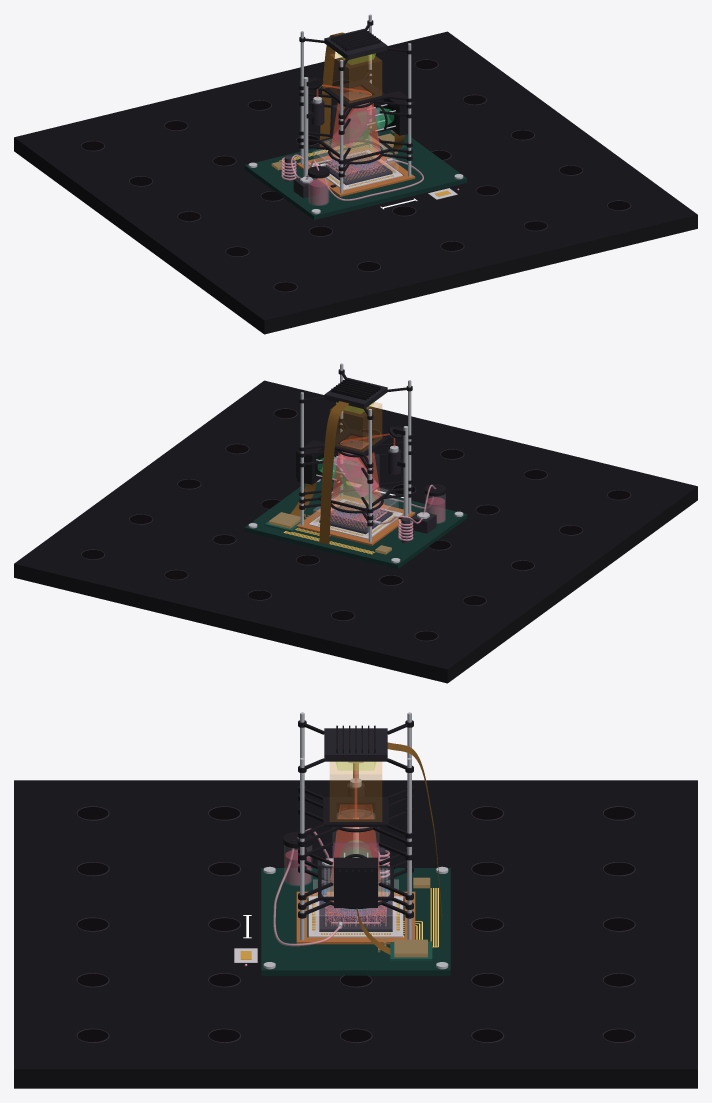
File: photonic-wetware-core.glb
The picture shows the model from 3 angles, top to bottom: view 1: azimuth 30°, elevation 25°; view 2: azimuth 150°, elevation 25°; view 3: azimuth 270°, elevation 25°; orthographic projection. The views are drawn at different scales.
Visible parts, largest first — view 1: breadboard, board, breadboard_instances (×2), crystal, slm, lifesupport, beam_4, cage, dichroic, mea, sensor, laser (+5 smaller); view 2: breadboard, board, breadboard_instances (×2), slm, crystal, beam_4, lifesupport, cage, dichroic, mea, sensor, laser (+6 smaller); view 3: breadboard, board, breadboard_instances (×2), crystal, slm, sensor, mea, lifesupport, dichroic, cage, thermal, beam_4 (+8 smaller).
Boxes of the visible parts, x1=… form: breadboard: x1=14, y1=31, x2=697, y2=334; board: x1=244, y1=129, x2=467, y2=219; breadboard_instances (×2): x1=80, y1=59, x2=631, y2=292; crystal: x1=299, y1=53, x2=412, y2=118; slm: x1=299, y1=20, x2=412, y2=149; lifesupport: x1=281, y1=154, x2=423, y2=205; beam_4: x1=332, y1=93, x2=379, y2=155; cage: x1=300, y1=14, x2=411, y2=193; dichroic: x1=299, y1=84, x2=412, y2=164; mea: x1=308, y1=150, x2=403, y2=190; sensor: x1=367, y1=91, x2=415, y2=148; laser: x1=303, y1=77, x2=324, y2=176; breadboard: x1=14, y1=380, x2=697, y2=683; board: x1=244, y1=478, x2=467, y2=568; breadboard_instances (×2): x1=80, y1=408, x2=631, y2=641; slm: x1=299, y1=369, x2=412, y2=544; crystal: x1=299, y1=402, x2=412, y2=467; beam_4: x1=332, y1=442, x2=379, y2=504; lifesupport: x1=331, y1=484, x2=446, y2=543; cage: x1=300, y1=363, x2=411, y2=542; dichroic: x1=299, y1=433, x2=412, y2=513; mea: x1=308, y1=499, x2=403, y2=539; sensor: x1=290, y1=440, x2=344, y2=516; laser: x1=387, y1=426, x2=413, y2=535; breadboard: x1=14, y1=780, x2=697, y2=1088; board: x1=261, y1=866, x2=450, y2=975; breadboard_instances (×2): x1=76, y1=806, x2=635, y2=1043; crystal: x1=298, y1=762, x2=413, y2=838; slm: x1=298, y1=720, x2=442, y2=920; sensor: x1=334, y1=852, x2=390, y2=954; mea: x1=308, y1=896, x2=403, y2=937; lifesupport: x1=273, y1=828, x2=390, y2=946; dichroic: x1=298, y1=807, x2=413, y2=900; cage: x1=300, y1=712, x2=411, y2=940; thermal: x1=296, y1=891, x2=415, y2=944; beam_4: x1=332, y1=813, x2=379, y2=892.
Bounding box in the file's own units: 0.13 × 0.0436 × 0.13.
